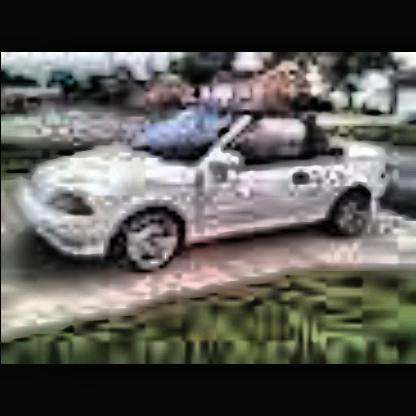Geo Metro Convertible 1993: (28, 107, 389, 274)
